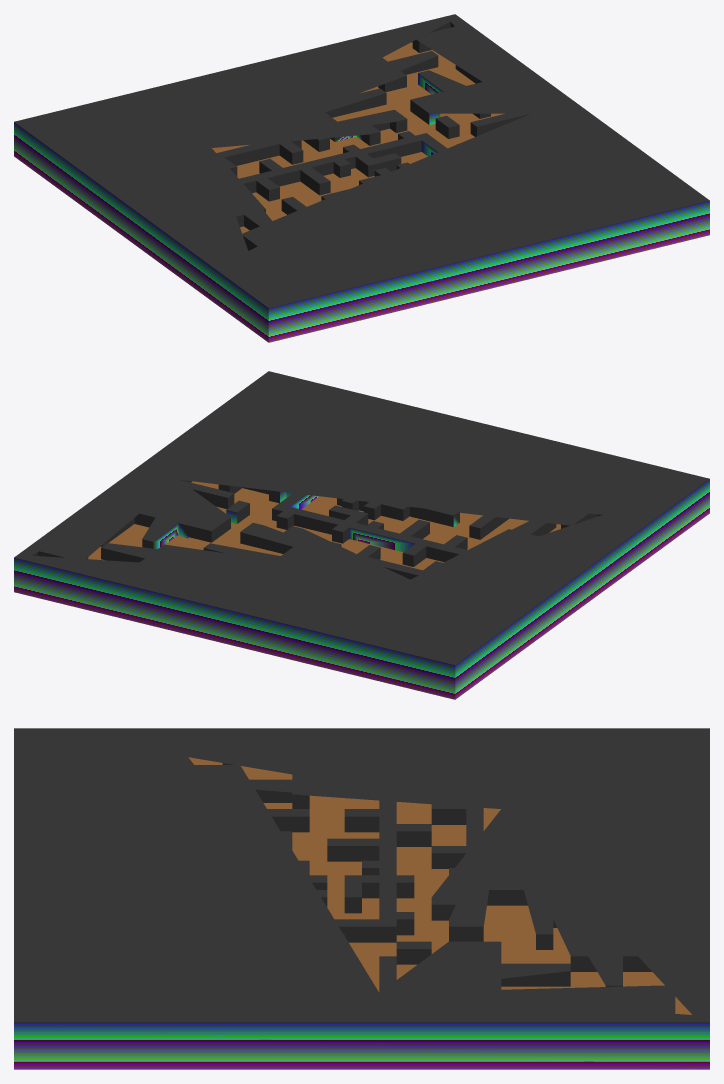
Rendered from GOOD_MESH_HEHE.fbx.
3 renders of one model, top to bottom at view 1: azimuth 30°, elevation 25°; view 2: azimuth 150°, elevation 25°; view 3: azimuth 270°, elevation 25°, orthographic. The views are drawn at different scales.
Visible parts, largest first — view 1: Untitled; view 2: Untitled; view 3: Untitled.
Part boxes in pixels (x1,y1,x2,y2): Untitled: (14, 14, 709, 342); Untitled: (14, 371, 709, 699); Untitled: (14, 728, 709, 1069).
Bounding box in the file's own units: 400 × 30 × 400.
1 material, 1 textured.
